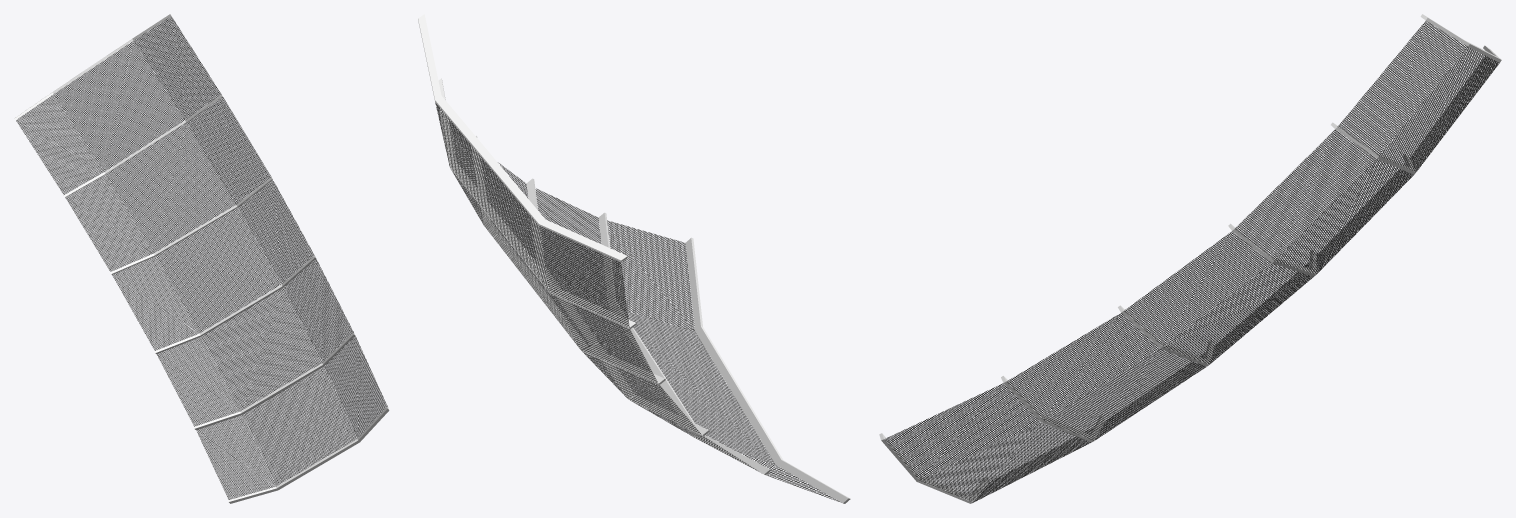
The model's file is netspline.dae.
The picture shows the model from 3 angles, left to right: view 1: azimuth 30°, elevation 25°; view 2: azimuth 150°, elevation 25°; view 3: azimuth 270°, elevation 25°; orthographic projection. The views are drawn at different scales.
Visible parts, largest first — view 1: group_9, group_10, group_8, group_7, group_6, group_0, group_1, group_2, group_3, group_4, group_5; view 2: group_6, group_10, group_7, group_9, group_8, group_5, group_0, group_4, group_3, group_1, group_2; view 3: group_7, group_9, group_6, group_8, group_10, group_0, group_1, group_2.
Boxes of the visible parts, x1,y1,x2,y2 form: group_9: (65, 97, 271, 271); group_10: (16, 16, 221, 194); group_8: (112, 180, 314, 350); group_7: (157, 259, 353, 426); group_6: (197, 336, 387, 499); group_0: (228, 407, 389, 503); group_1: (193, 333, 355, 430); group_2: (154, 256, 316, 354); group_3: (110, 177, 272, 274); group_4: (64, 94, 222, 197); group_5: (14, 14, 171, 119); group_6: (607, 220, 841, 502); group_10: (435, 102, 629, 327); group_7: (535, 188, 761, 473); group_9: (449, 119, 658, 383); group_8: (480, 156, 701, 434); group_5: (418, 14, 627, 261); group_0: (685, 237, 850, 503); group_4: (438, 78, 636, 328); group_3: (470, 136, 665, 384); group_1: (598, 212, 771, 474); group_2: (526, 178, 709, 435); group_7: (1006, 313, 1205, 440); group_9: (1235, 129, 1413, 274); group_6: (884, 383, 1092, 502); group_8: (1124, 231, 1313, 364); group_10: (1337, 21, 1499, 171); group_0: (879, 433, 988, 503); group_1: (1001, 376, 1104, 442); group_2: (1118, 305, 1213, 366).
Bounding box in the file's own units: 178 × 363 × 342.
2 materials, 1 textured.
